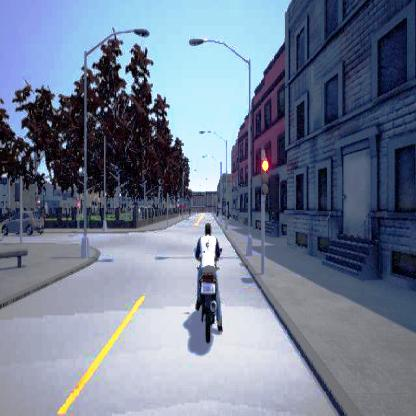motobike: (192, 221, 223, 346)
vehicle: (0, 209, 45, 237)
